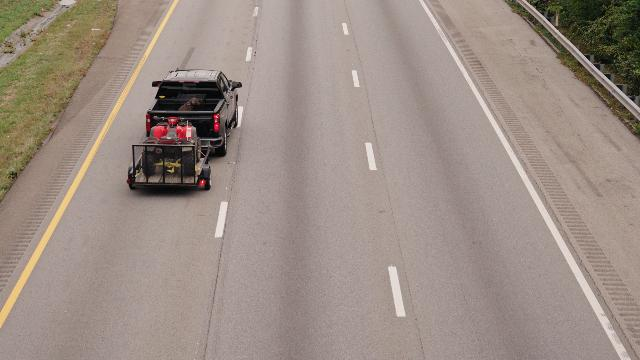pickup-truck: (125, 68, 245, 197)
